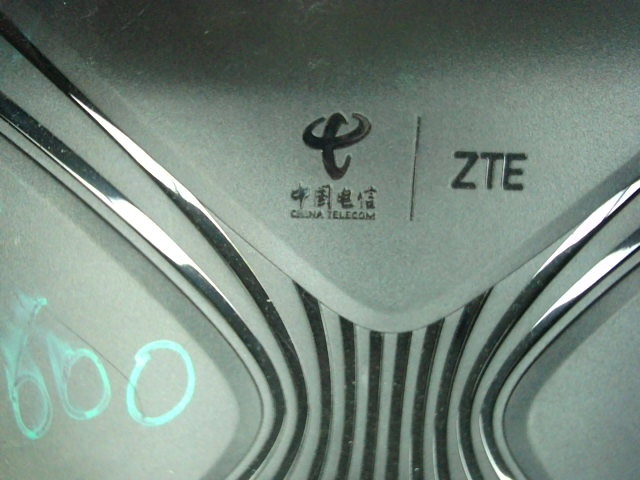AX_ZTEChinaTelecom: (276, 110, 529, 227)
